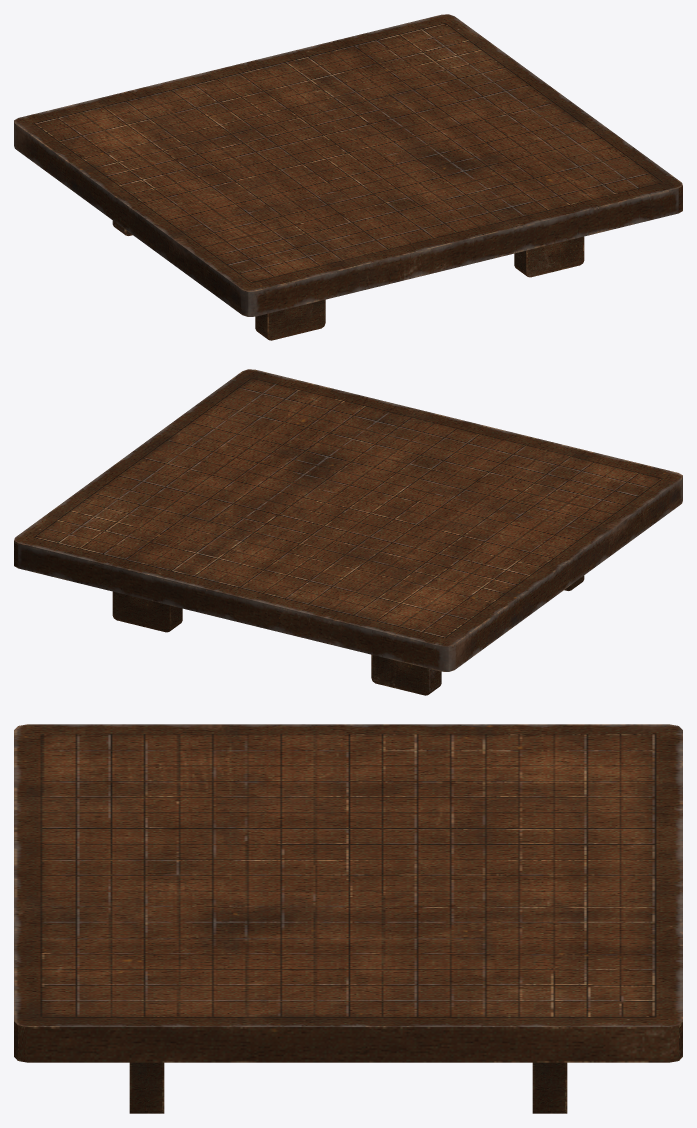
The model's file is SM_Baduk01a.fbx.
3 renders of one model, top to bottom at view 1: azimuth 30°, elevation 25°; view 2: azimuth 150°, elevation 25°; view 3: azimuth 270°, elevation 25°, orthographic. The views are drawn at different scales.
Parts seen in each view (by area): view 1: SM_Baduk01a; view 2: SM_Baduk01a; view 3: SM_Baduk01a.
Boxes of the visible parts, x1,y1,x2,y2 form: SM_Baduk01a: (14,14,682,340); SM_Baduk01a: (14,369,682,695); SM_Baduk01a: (14,724,682,1113).
Size of the model in its own units: 45.5 by 42.5 by 9.22.
Materials: 1 (1 with a texture image).
